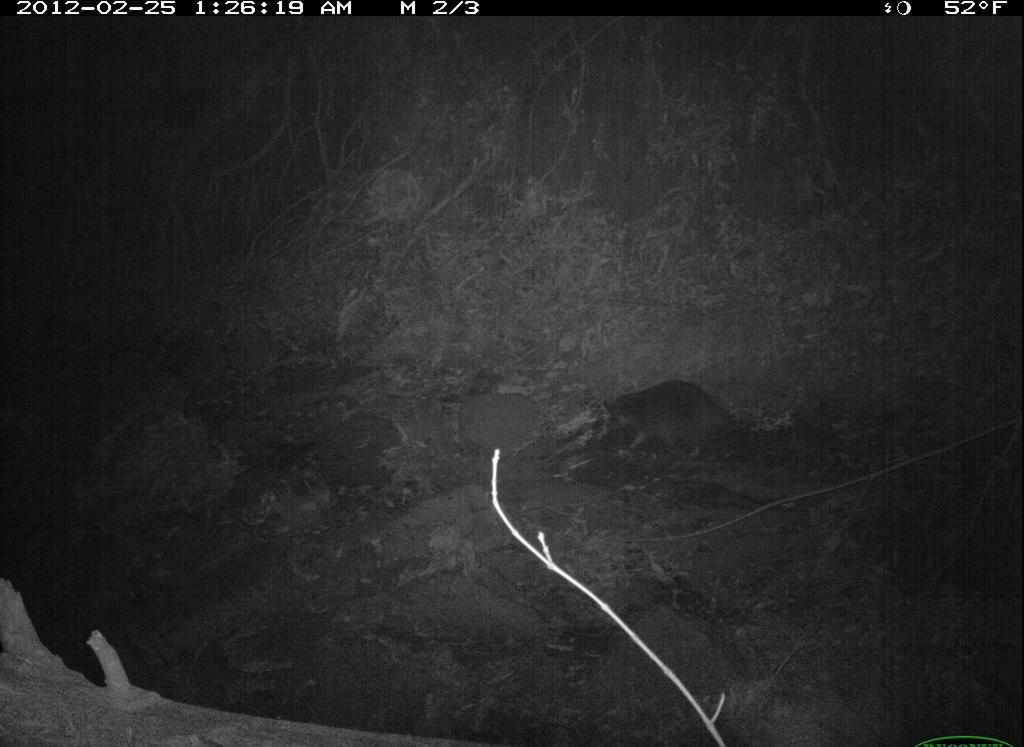raccoon: (594, 374, 776, 478)
